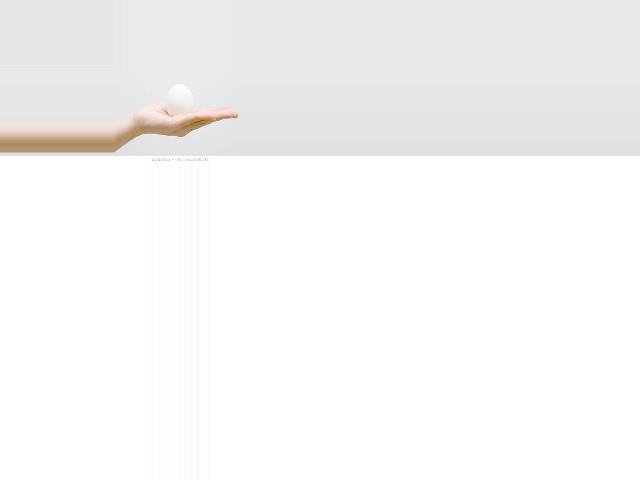egg: (167, 84, 193, 117)
